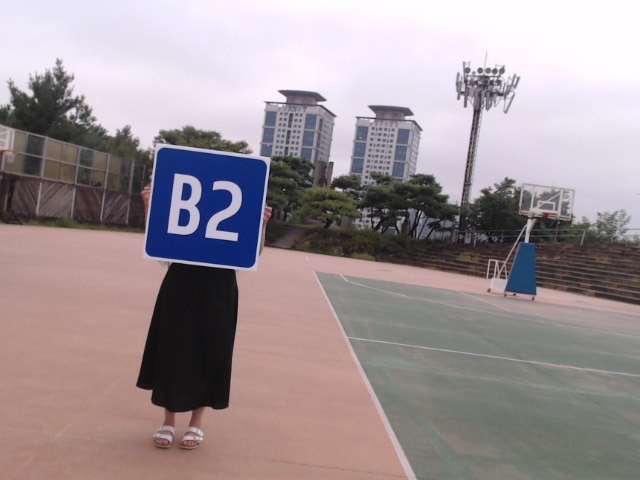delivery_b2: (145, 147, 269, 270)
